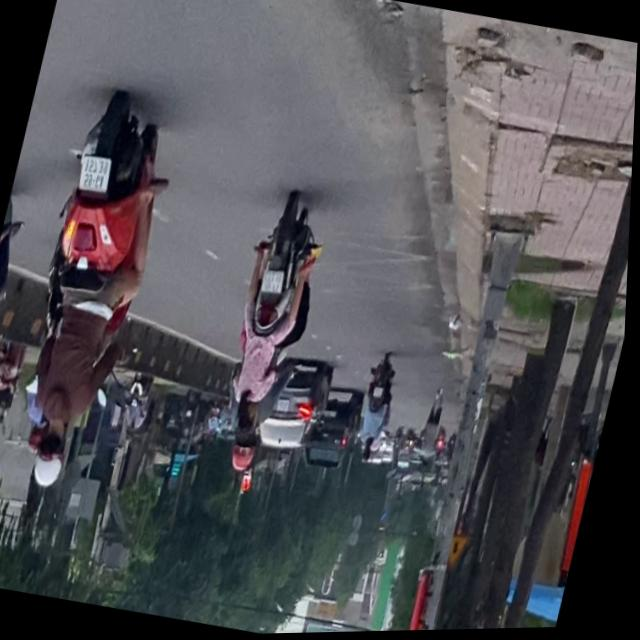helmet: (30, 420, 76, 491), (228, 429, 263, 476)
licenseplate: (0, 83, 190, 501), (202, 189, 338, 480), (0, 179, 31, 454)
motorcyclist: (233, 392, 265, 439)
nohelmet: (78, 155, 113, 194), (261, 270, 286, 297)
